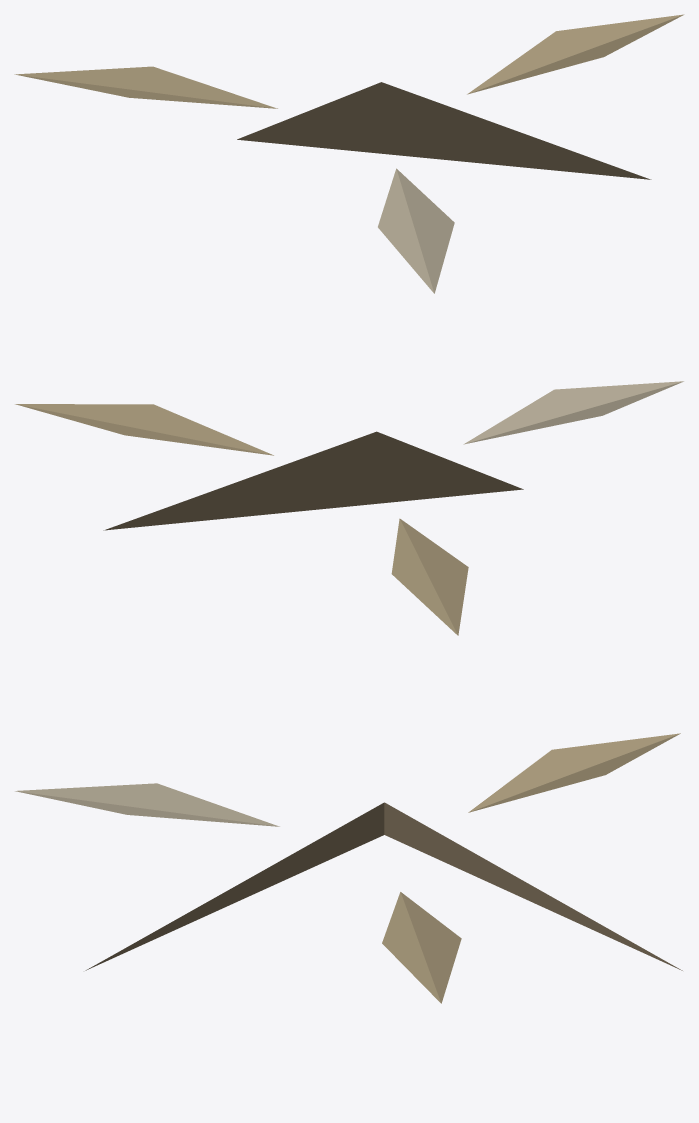
The model's file is nong.da@withered__bloom.glb.
The picture shows the model from 3 angles, top to bottom: view 1: azimuth 30°, elevation 25°; view 2: azimuth 150°, elevation 25°; view 3: azimuth 270°, elevation 25°; orthographic projection. The views are drawn at different scales.
Visible parts, largest first — view 1: nong.da@withered__bloom; view 2: nong.da@withered__bloom; view 3: nong.da@withered__bloom.
Boxes of the visible parts, left/top/right/bottom form: nong.da@withered__bloom: left=14, top=14, right=684, bottom=293; nong.da@withered__bloom: left=15, top=381, right=683, bottom=635; nong.da@withered__bloom: left=15, top=733, right=682, bottom=1003.
Bounding box in the file's own units: 0.323 × 0.084 × 0.301.
